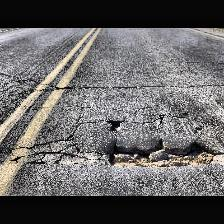pothole: (103, 137, 218, 167), (106, 119, 122, 131)
